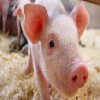heo: (20, 1, 92, 97)
